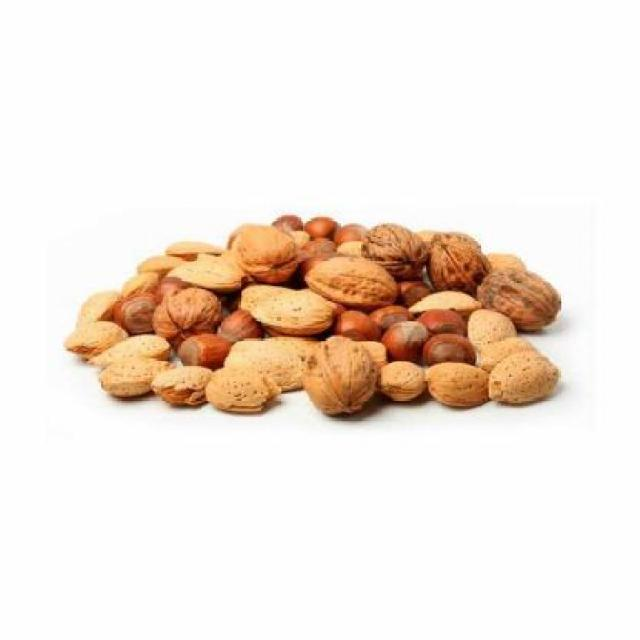Frutta secca: (62, 210, 568, 421)
